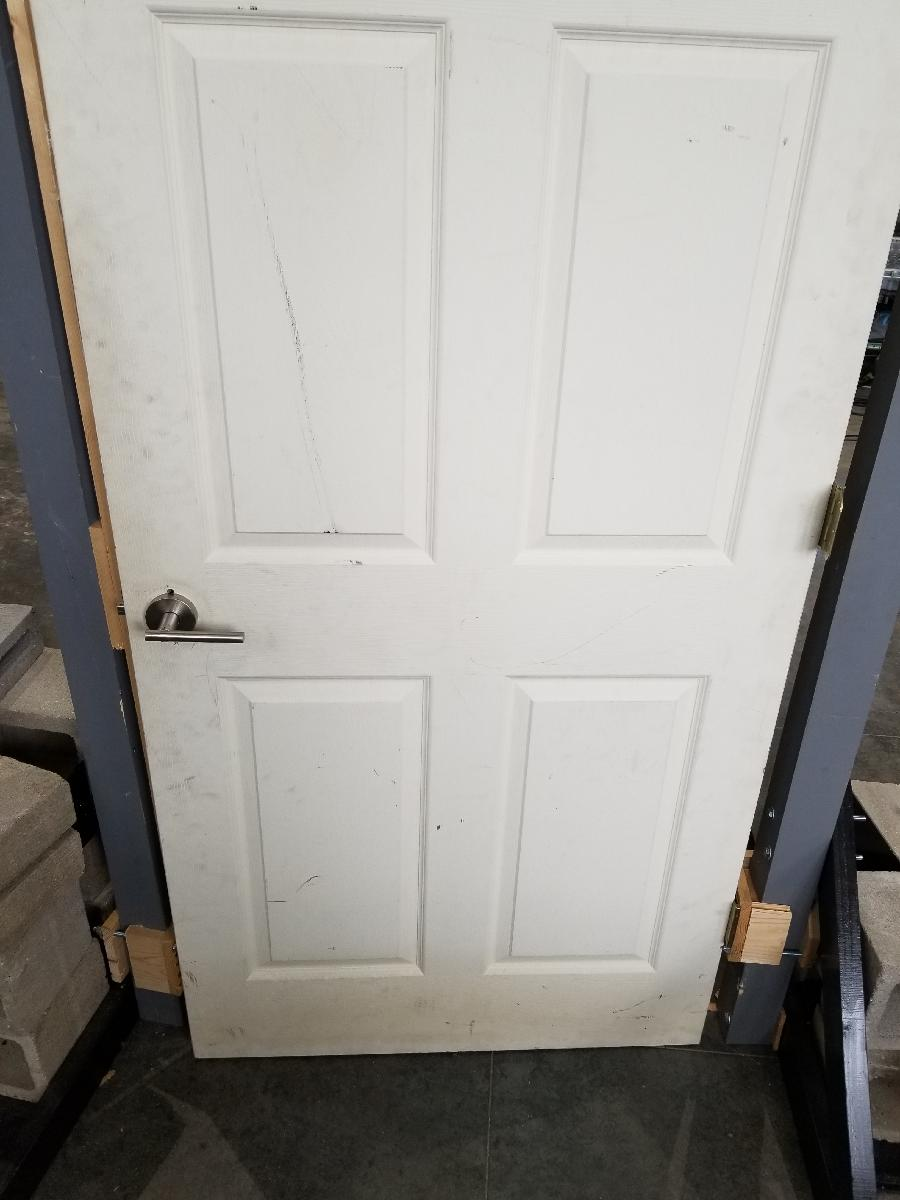doorHandle: (137, 587, 254, 659)
